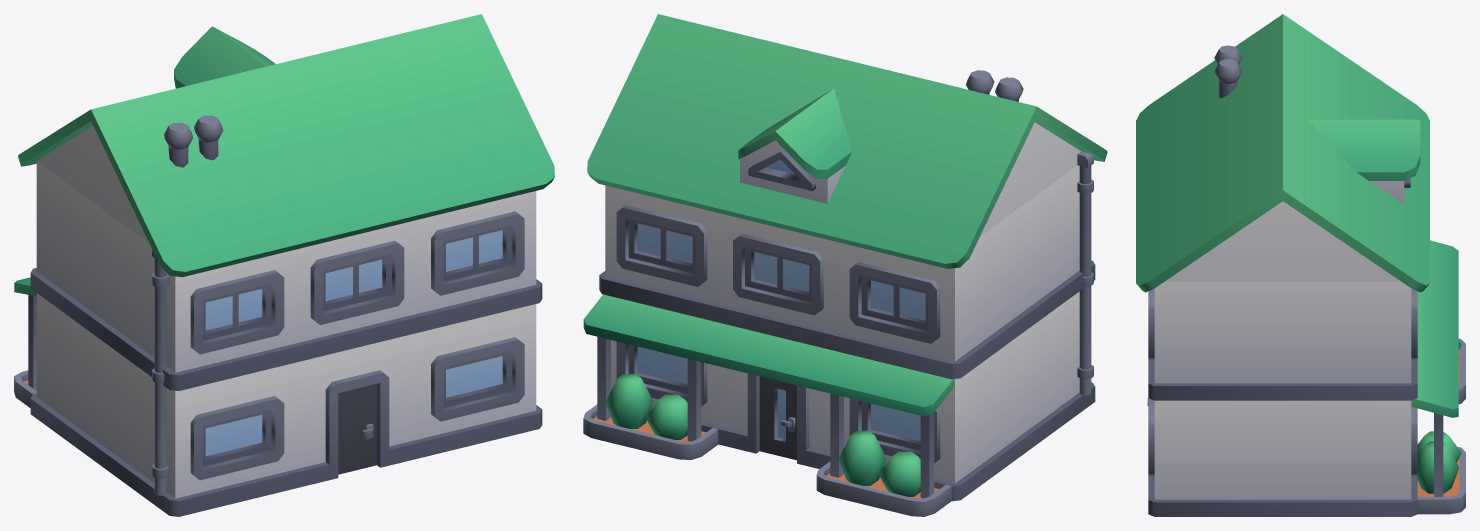
The model's file is house_4.fbx.
3 views of the same model, side by side, from view 1: azimuth 30°, elevation 25°; view 2: azimuth 150°, elevation 25°; view 3: azimuth 270°, elevation 25° (orthographic). The views are drawn at different scales.
Visible parts, largest first — view 1: house_4; view 2: house_4; view 3: house_4.
Boxes of the visible parts, <box> form: house_4: <box>14,14,554,516</box>; house_4: <box>583,14,1107,516</box>; house_4: <box>1136,14,1465,516</box>.
Size of the model in its own units: 1.3 by 1.14 by 1.03.
1 material, 1 textured.
